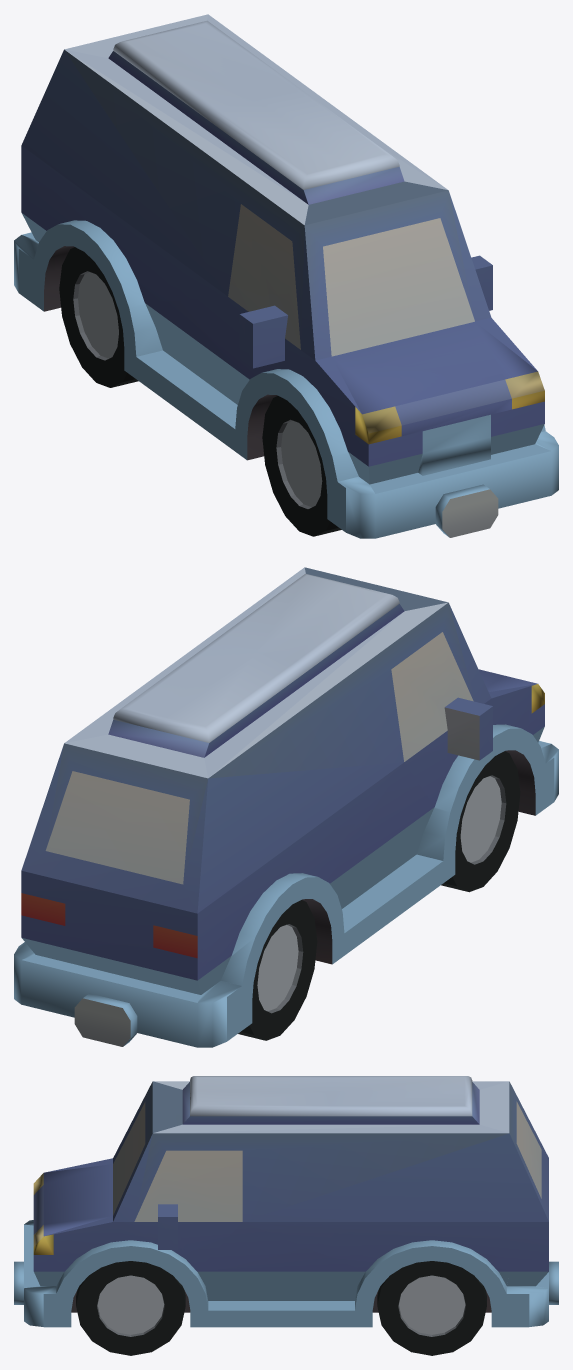
Rendered from van_clean.glb.
3 renders of one model, top to bottom at view 1: azimuth 30°, elevation 25°; view 2: azimuth 150°, elevation 25°; view 3: azimuth 270°, elevation 25°, orthographic. The views are drawn at different scales.
Parts seen in each view (by area): view 1: Body, Glass; view 2: Body, Glass; view 3: Body, Glass.
Part boxes in pixels (x1,y1,x2,y2): Body: [21, 14, 544, 537]; Glass: [14, 213, 558, 538]; Body: [21, 567, 544, 1046]; Glass: [14, 724, 558, 1047]; Body: [33, 1076, 548, 1355]; Glass: [14, 1220, 558, 1327].
Size of the model in its own units: 2 by 2.49 by 5.3.
